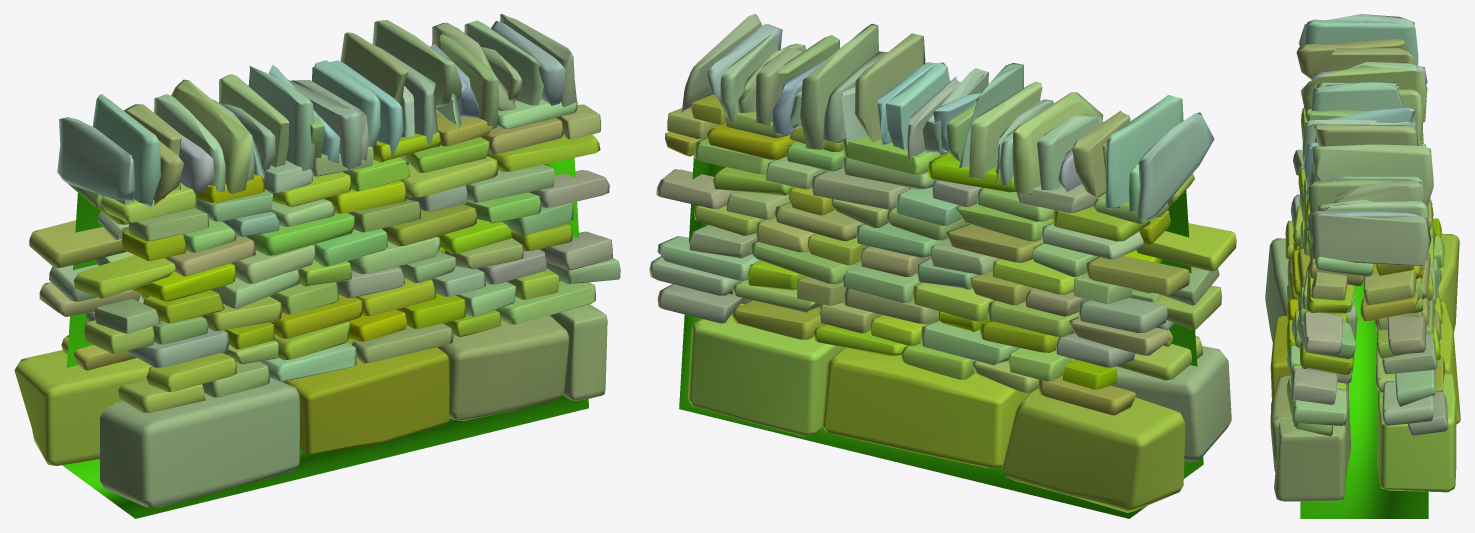
The model's file is SM_Prop_wall_stone_4.glb.
3 renders of one model, left to right at view 1: azimuth 30°, elevation 25°; view 2: azimuth 150°, elevation 25°; view 3: azimuth 270°, elevation 25°, orthographic. The views are drawn at different scales.
Visible parts, largest first — view 1: SM_Prop_wall_stone_4; view 2: SM_Prop_wall_stone_4; view 3: SM_Prop_wall_stone_4.
Boxes of the visible parts, x1,y1,x2,y2 form: SM_Prop_wall_stone_4: [14, 14, 620, 518]; SM_Prop_wall_stone_4: [649, 14, 1236, 518]; SM_Prop_wall_stone_4: [1265, 14, 1460, 518].
Size of the model in its own units: 2.25 by 1.54 by 0.8549.
